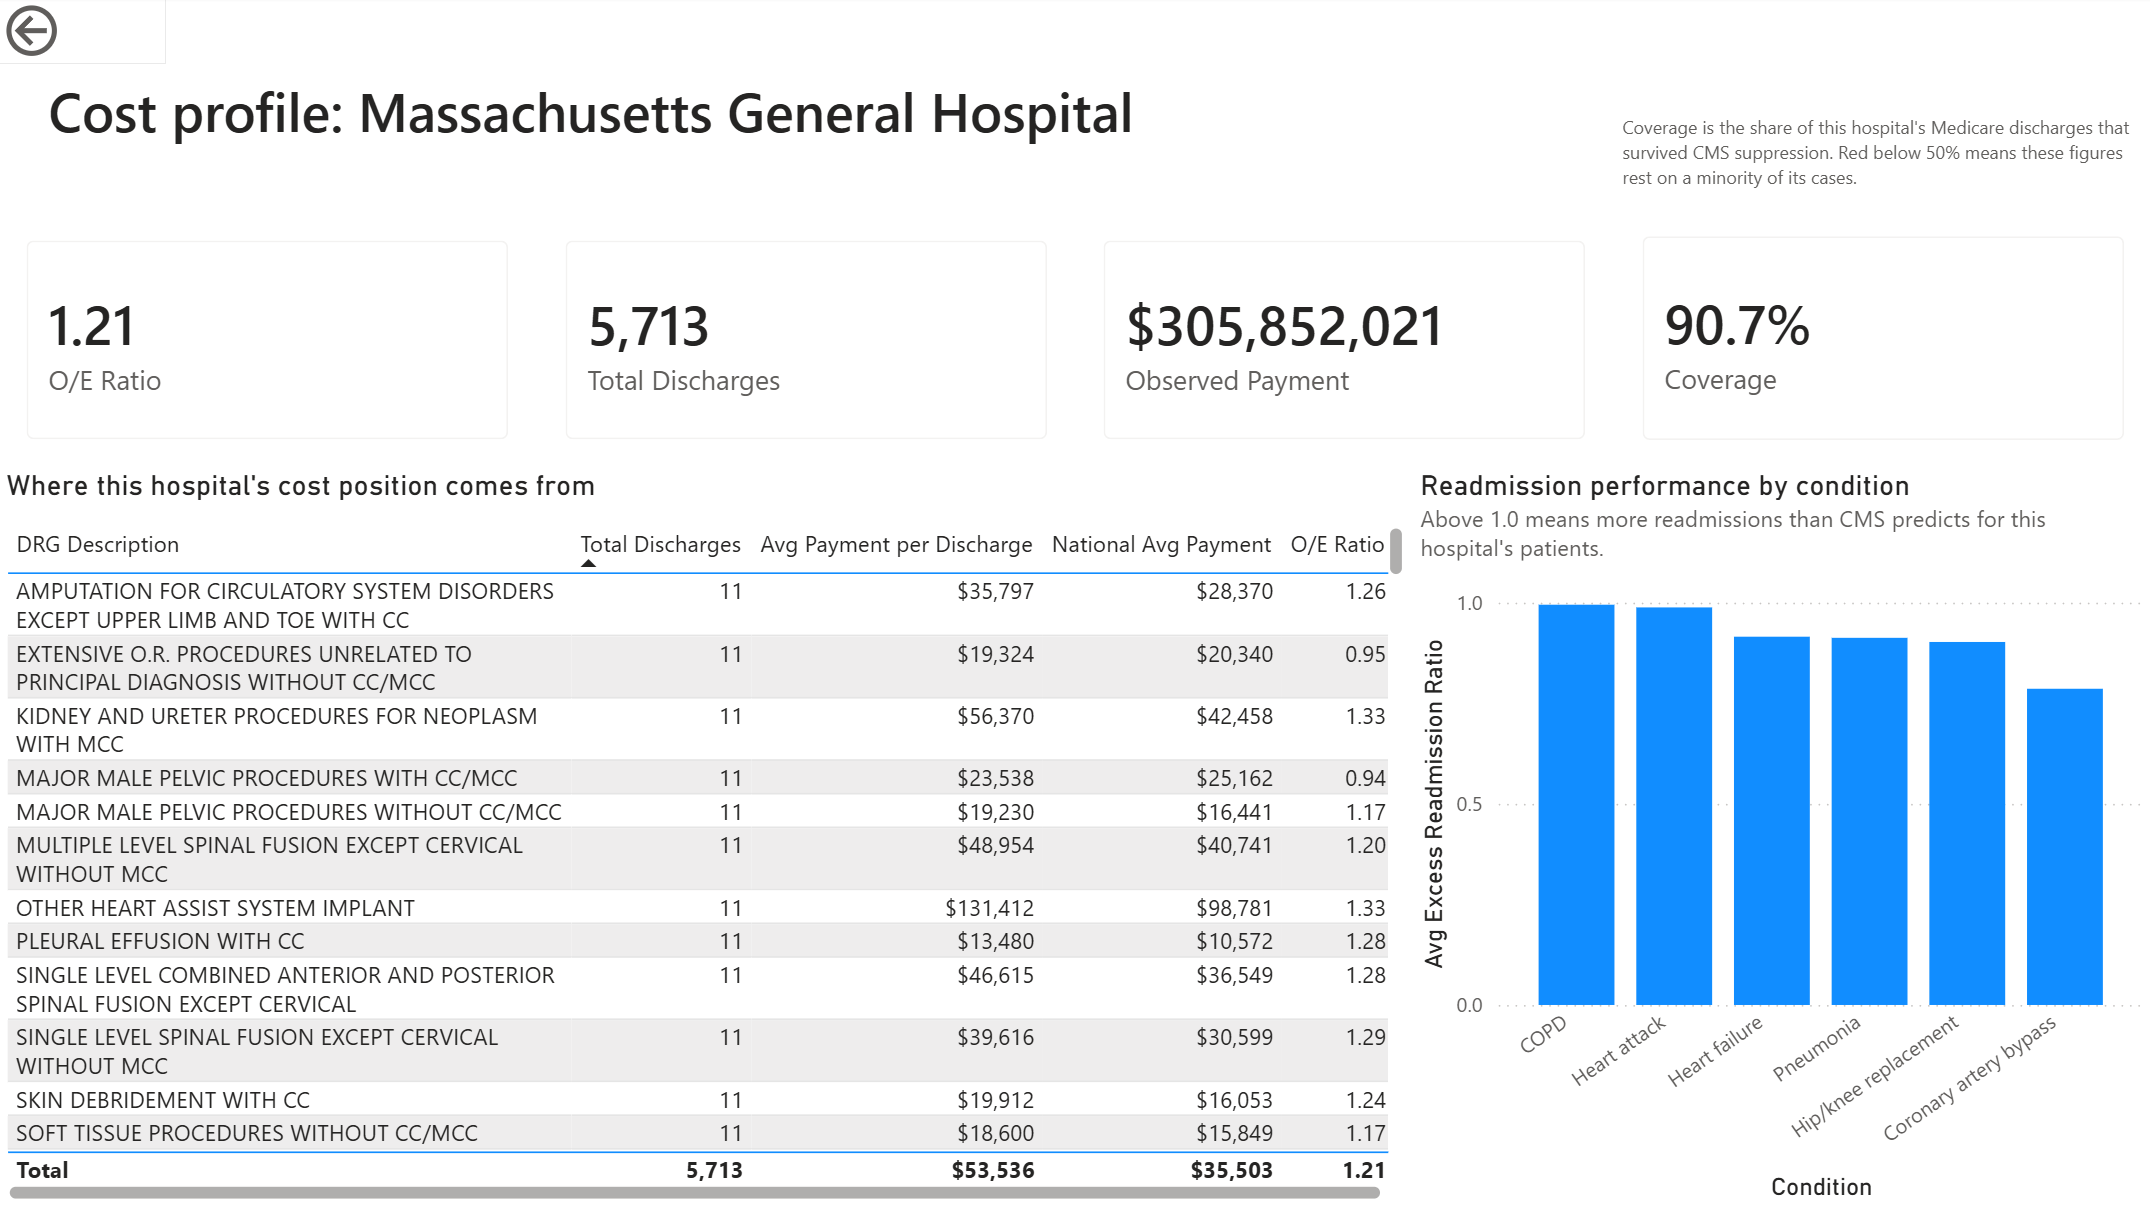

The page's visual inventory and layout, read from the dashboard file:
{"tool":"powerbi","page":{"name":"Hospital Detail","canvas":[1280,720],"ordinal":6},"visuals":[{"type":"cardVisual","fields":{"Data":["_Measures.Hospital Title"]},"box":[0,0,1280,128],"z":0},{"type":"cardVisual","fields":{"Data":["_Measures.O/E Ratio"]},"box":[0,128,320,152],"z":1000},{"type":"actionButton","box":[0,0,100,40],"z":2000},{"type":"cardVisual","fields":{"Data":["_Measures.Total Discharges"]},"box":[320,128,320,152],"z":2001},{"type":"cardVisual","fields":{"Data":["_Measures.Observed Payment"]},"box":[640,128,320,152],"z":2002},{"type":"cardVisual","fields":{"Data":["_Measures.Coverage"]},"box":[960,64,320,216],"z":2003},{"type":"tableEx","title":"Where this hospital''s cost position comes from","fields":{"Values":["dim_drg.DRG Description","_Measures.Total Discharges","_Measures.Avg Payment per Discharge","_Measures.National Avg Payment","_Measures.O/E Ratio"]},"box":[0,280,840,440],"z":2004},{"type":"clusteredColumnChart","title":"Readmission performance by condition","fields":{"Category":["fact_hospital_quality.Condition"],"Y":["_Measures.Avg Excess Readmission Ratio"]},"box":[840,280,440,440],"z":2005}]}

Visuals, with their boxes in screenshot pixels (x1, y1, x2, y2), scaled from the page's 1280x720 canvas onto the 2150x1208 screenshot:
cardVisual - _Measures.Hospital Title: [0, 0, 2149, 215]
cardVisual - _Measures.O/E Ratio: [0, 215, 538, 470]
actionButton: [0, 0, 168, 67]
cardVisual - _Measures.Total Discharges: [538, 215, 1075, 470]
cardVisual - _Measures.Observed Payment: [1075, 215, 1612, 470]
cardVisual - _Measures.Coverage: [1612, 107, 2149, 470]
"Where this hospital''s cost position comes from" tableEx: [0, 470, 1411, 1207]
"Readmission performance by condition" clusteredColumnChart: [1411, 470, 2149, 1207]
